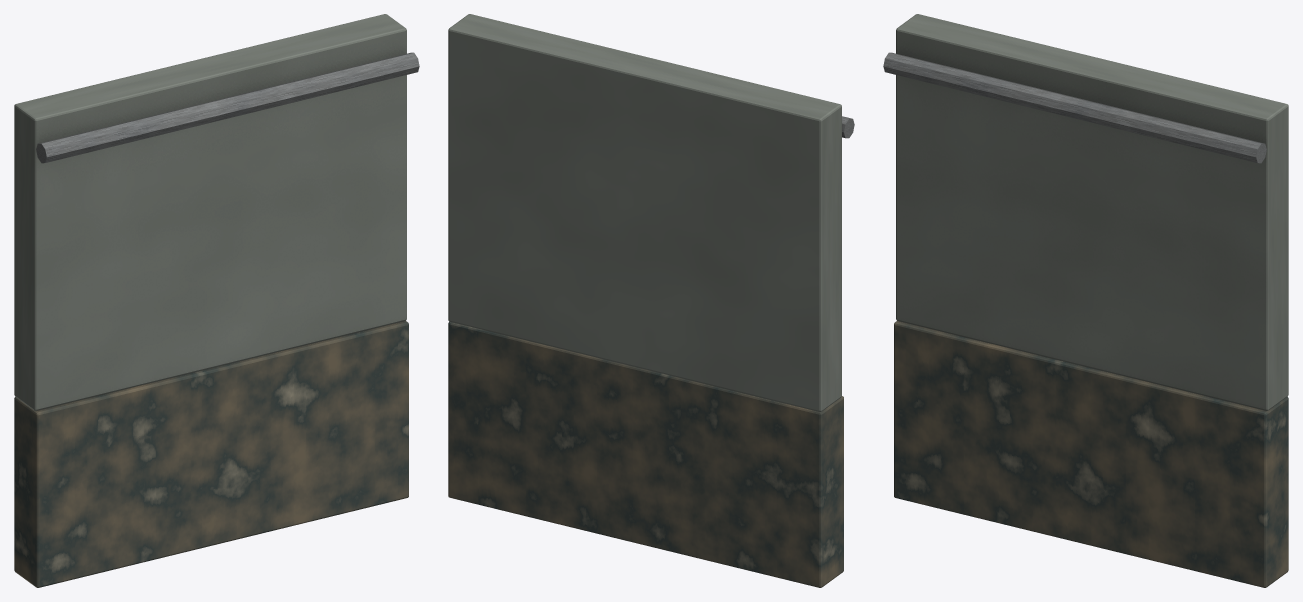
Rendered from room_wall_city.glb.
3 views of the same model, side by side, from view 1: azimuth 30°, elevation 25°; view 2: azimuth 150°, elevation 25°; view 3: azimuth 330°, elevation 25° (orthographic).
Parts seen in each view (by area): view 1: room_wall_city; view 2: room_wall_city; view 3: room_wall_city.
Boxes of the visible parts, bbox=[...] form: room_wall_city: bbox=[14, 14, 419, 587]; room_wall_city: bbox=[448, 14, 854, 587]; room_wall_city: bbox=[883, 14, 1288, 587].
Bounding box in the file's own units: 2 × 2.4 × 0.31.
Materials: 3 (3 with a texture image).
